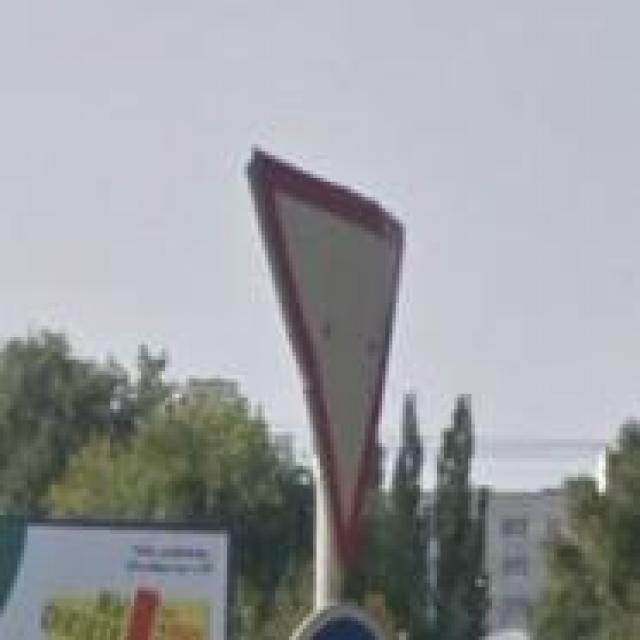Ustap pierwszenstwa: (248, 144, 406, 579)
